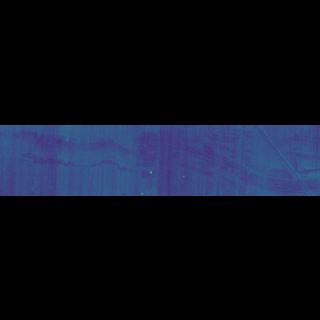Loch: (174, 151, 320, 168), (17, 151, 161, 163)
